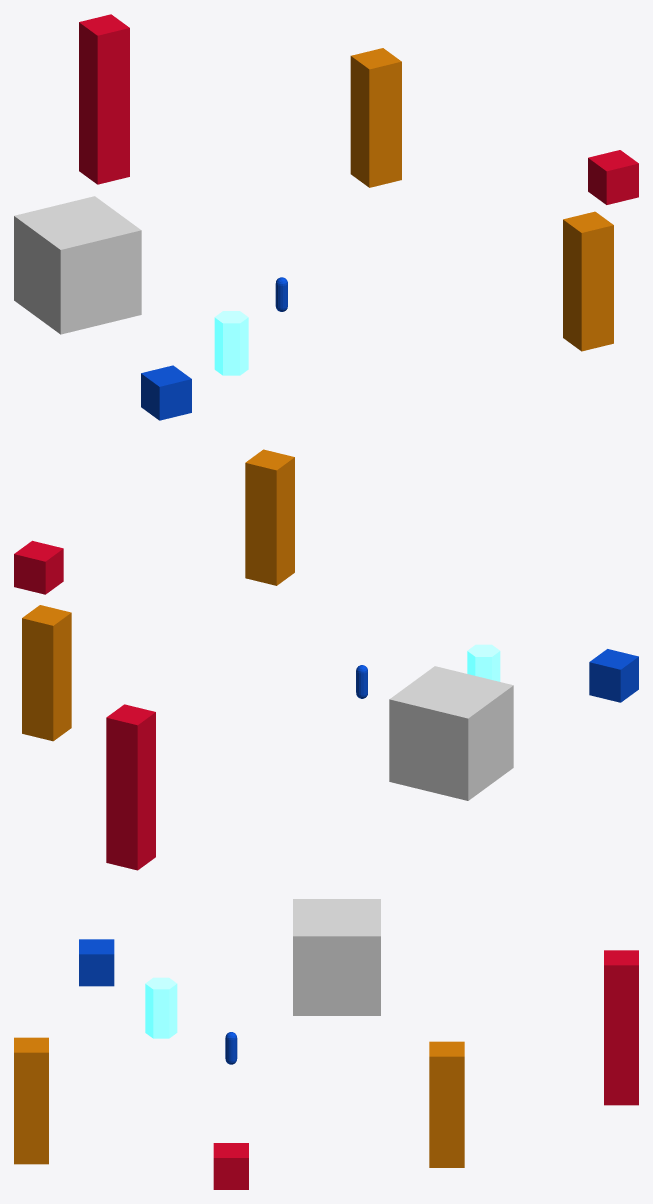
The model's file is level1.glb.
3 renders of one model, top to bottom at view 1: azimuth 30°, elevation 25°; view 2: azimuth 150°, elevation 25°; view 3: azimuth 270°, elevation 25°, orthographic. The views are drawn at different scales.
Parts seen in each view (by area): view 1: Cube, Pillar_geometry (×2), Cube.004, Container, Cube.002, GlowyThing; view 2: Cube, Pillar_geometry (×2), Cube.004, Container, Cube.002, GlowyThing; view 3: Cube, Pillar_geometry (×2), Cube.004, GlowyThing, Container, Cube.002.
Part boxes in pixels (x1,y1,x2,y2): Cube: (14, 196, 141, 334); Pillar_geometry (×2): (350, 48, 613, 351); Cube.004: (79, 14, 129, 184); Container: (141, 365, 191, 420); Cube.002: (588, 150, 638, 204); GlowyThing: (214, 311, 248, 375); Cube: (389, 666, 513, 800); Pillar_geometry (×2): (22, 449, 294, 741); Cube.004: (106, 704, 155, 870); Container: (589, 649, 638, 702); Cube.002: (14, 540, 63, 594); GlowyThing: (467, 644, 500, 681); Cube: (293, 899, 380, 1015); Pillar_geometry (×2): (14, 1037, 464, 1167); Cube.004: (604, 950, 638, 1105); GlowyThing: (145, 977, 177, 1038); Container: (79, 939, 114, 986); Cube.002: (213, 1143, 248, 1189).
Size of what is drawn, in the model's own units: 34.06 by 8.8 by 35.55.
